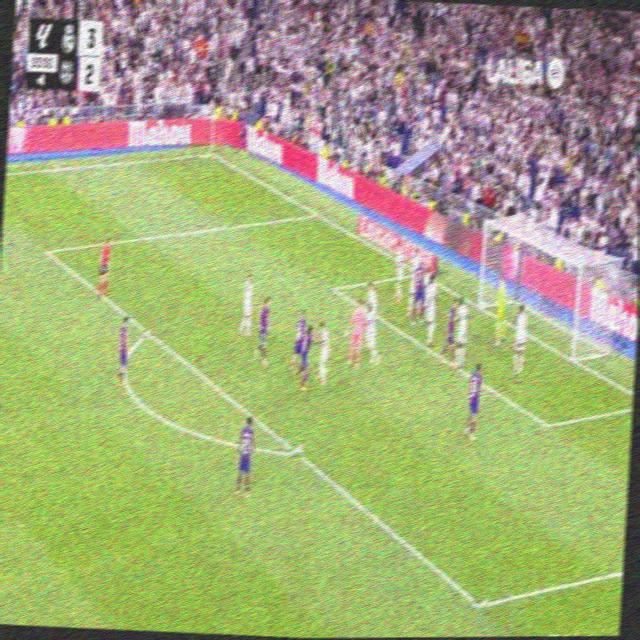bigarea_bottom_inner: (471, 586, 488, 623)
bigarea_top_outter: (311, 203, 321, 221)
bottom_arc_area_intersection: (290, 438, 304, 467)
corner: (204, 145, 218, 160)
smallarea_top_inner: (328, 279, 338, 298)
top_arc_area_intersection: (143, 321, 155, 341)
